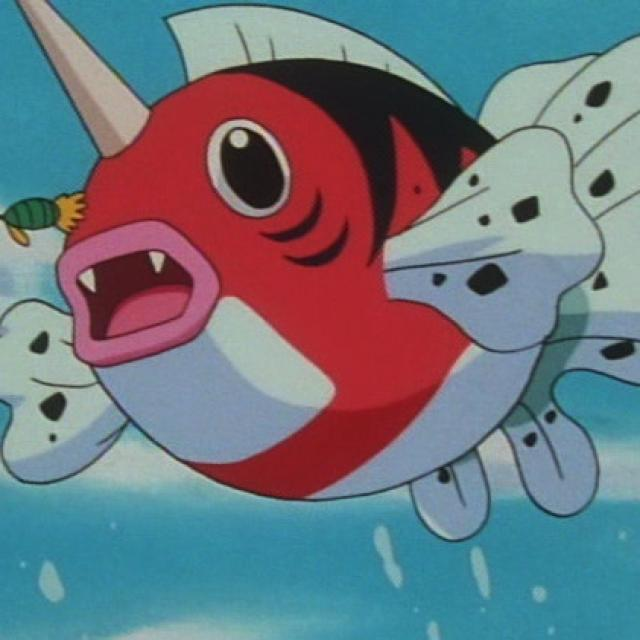Seaking: (32, 4, 640, 508)
